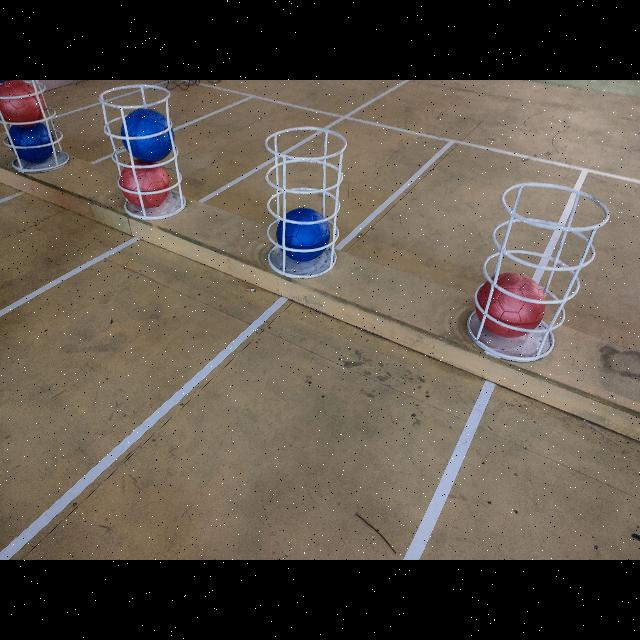B: (120, 110, 174, 164), (277, 210, 331, 258), (8, 122, 52, 166)
R: (474, 274, 546, 340), (118, 160, 168, 208), (0, 81, 46, 132)
